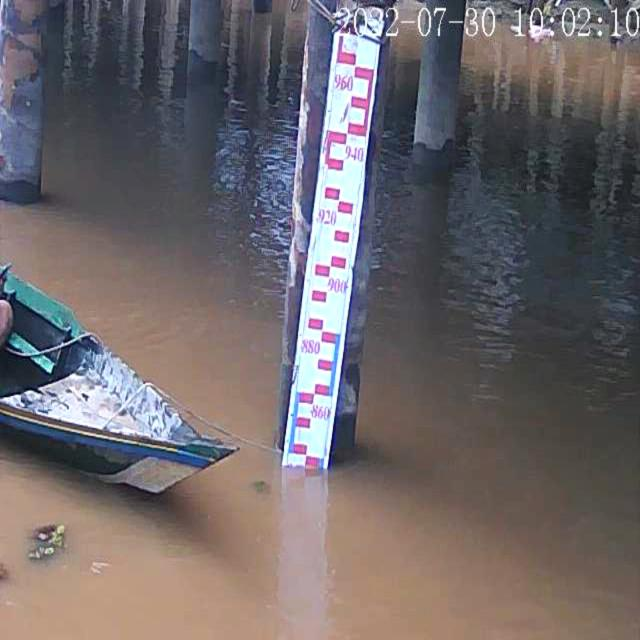ruler: (271, 24, 389, 484)
value: (314, 205, 339, 228), (325, 275, 351, 297), (332, 70, 356, 93), (298, 335, 322, 358), (345, 143, 368, 164), (309, 402, 333, 422)
